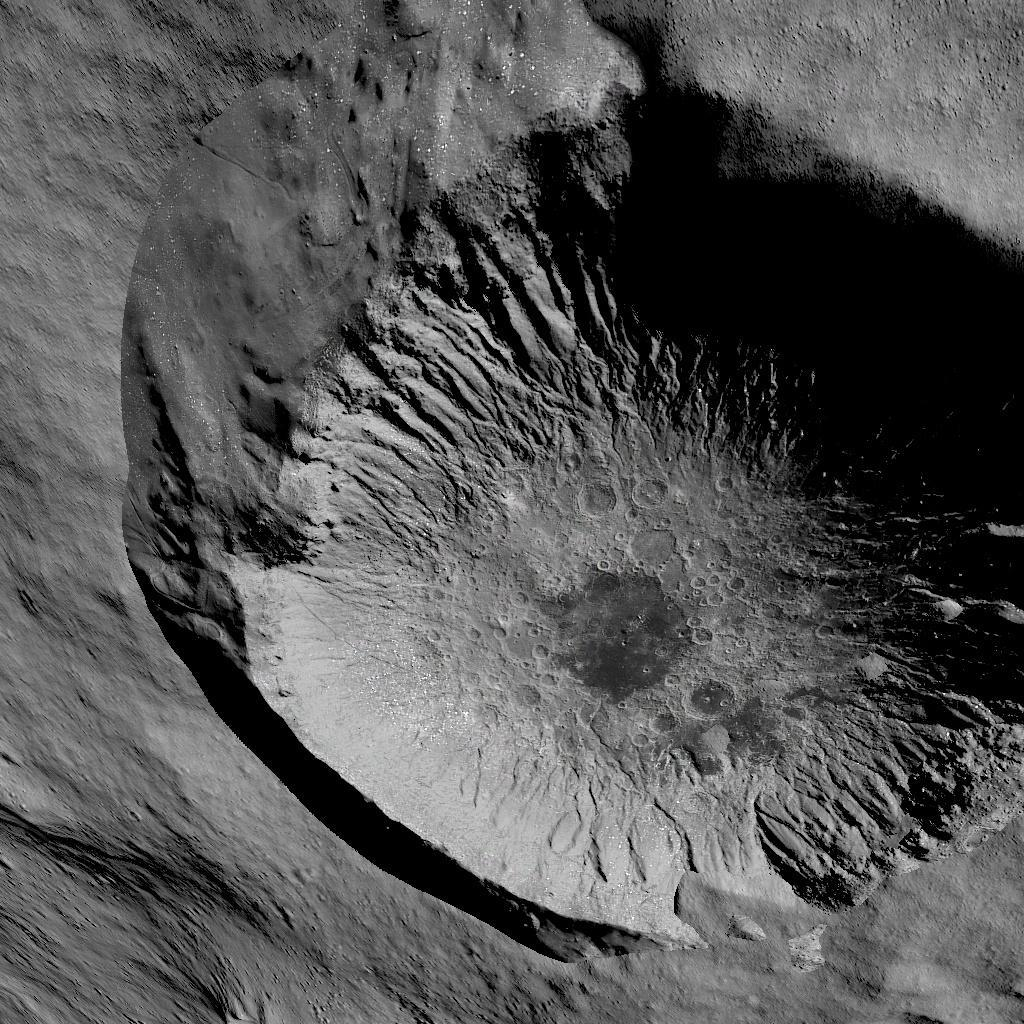Crater: (105, 0, 1024, 976)
